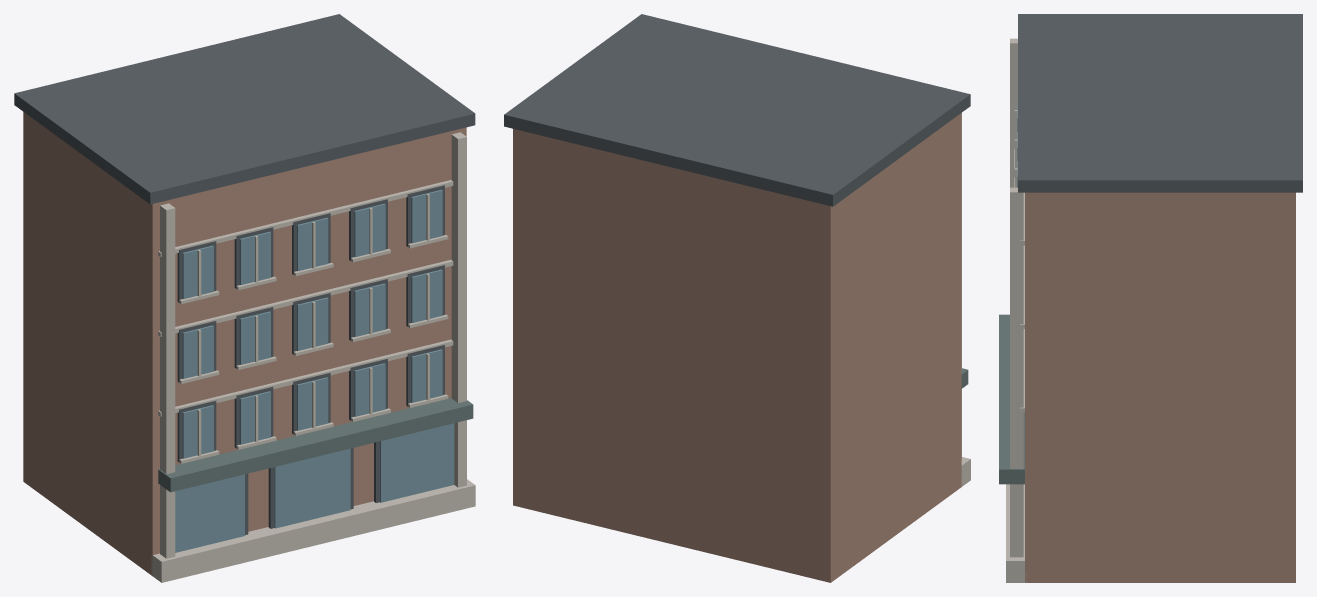
The model's file is brick_cafe_building.glb.
3 renders of one model, left to right at view 1: azimuth 30°, elevation 25°; view 2: azimuth 150°, elevation 25°; view 3: azimuth 270°, elevation 25°, orthographic. The views are drawn at different scales.
Parts seen in each view (by area): view 1: m0, m1, m72, m71, m73, m74, m68, m70, m66, m23, m44, m2 (+27 smaller); view 2: m0, m1; view 3: m0, m1, m74, m71, m72, m73.
Part boxes in pixels (box(x1,y1,x2,y2)): m0: box(23, 112, 466, 575); m1: box(14, 14, 475, 204); m72: box(151, 479, 475, 582); m71: box(158, 398, 473, 492); m73: box(160, 203, 175, 558); m74: box(451, 132, 466, 487); m68: box(274, 448, 350, 528); m70: box(380, 423, 454, 502); m66: box(175, 474, 244, 552); m23: box(158, 259, 453, 336); m44: box(158, 180, 453, 257); m2: box(158, 339, 453, 416); m0: box(513, 113, 961, 582); m1: box(504, 14, 970, 206); m0: box(1025, 192, 1295, 582); m1: box(1018, 14, 1302, 192); m74: box(1010, 187, 1023, 557); m71: box(999, 314, 1024, 484); m72: box(1006, 484, 1027, 582); m73: box(1010, 38, 1017, 187).
Bounding box in the file's own units: 14.5 × 16.5 × 11.2.
